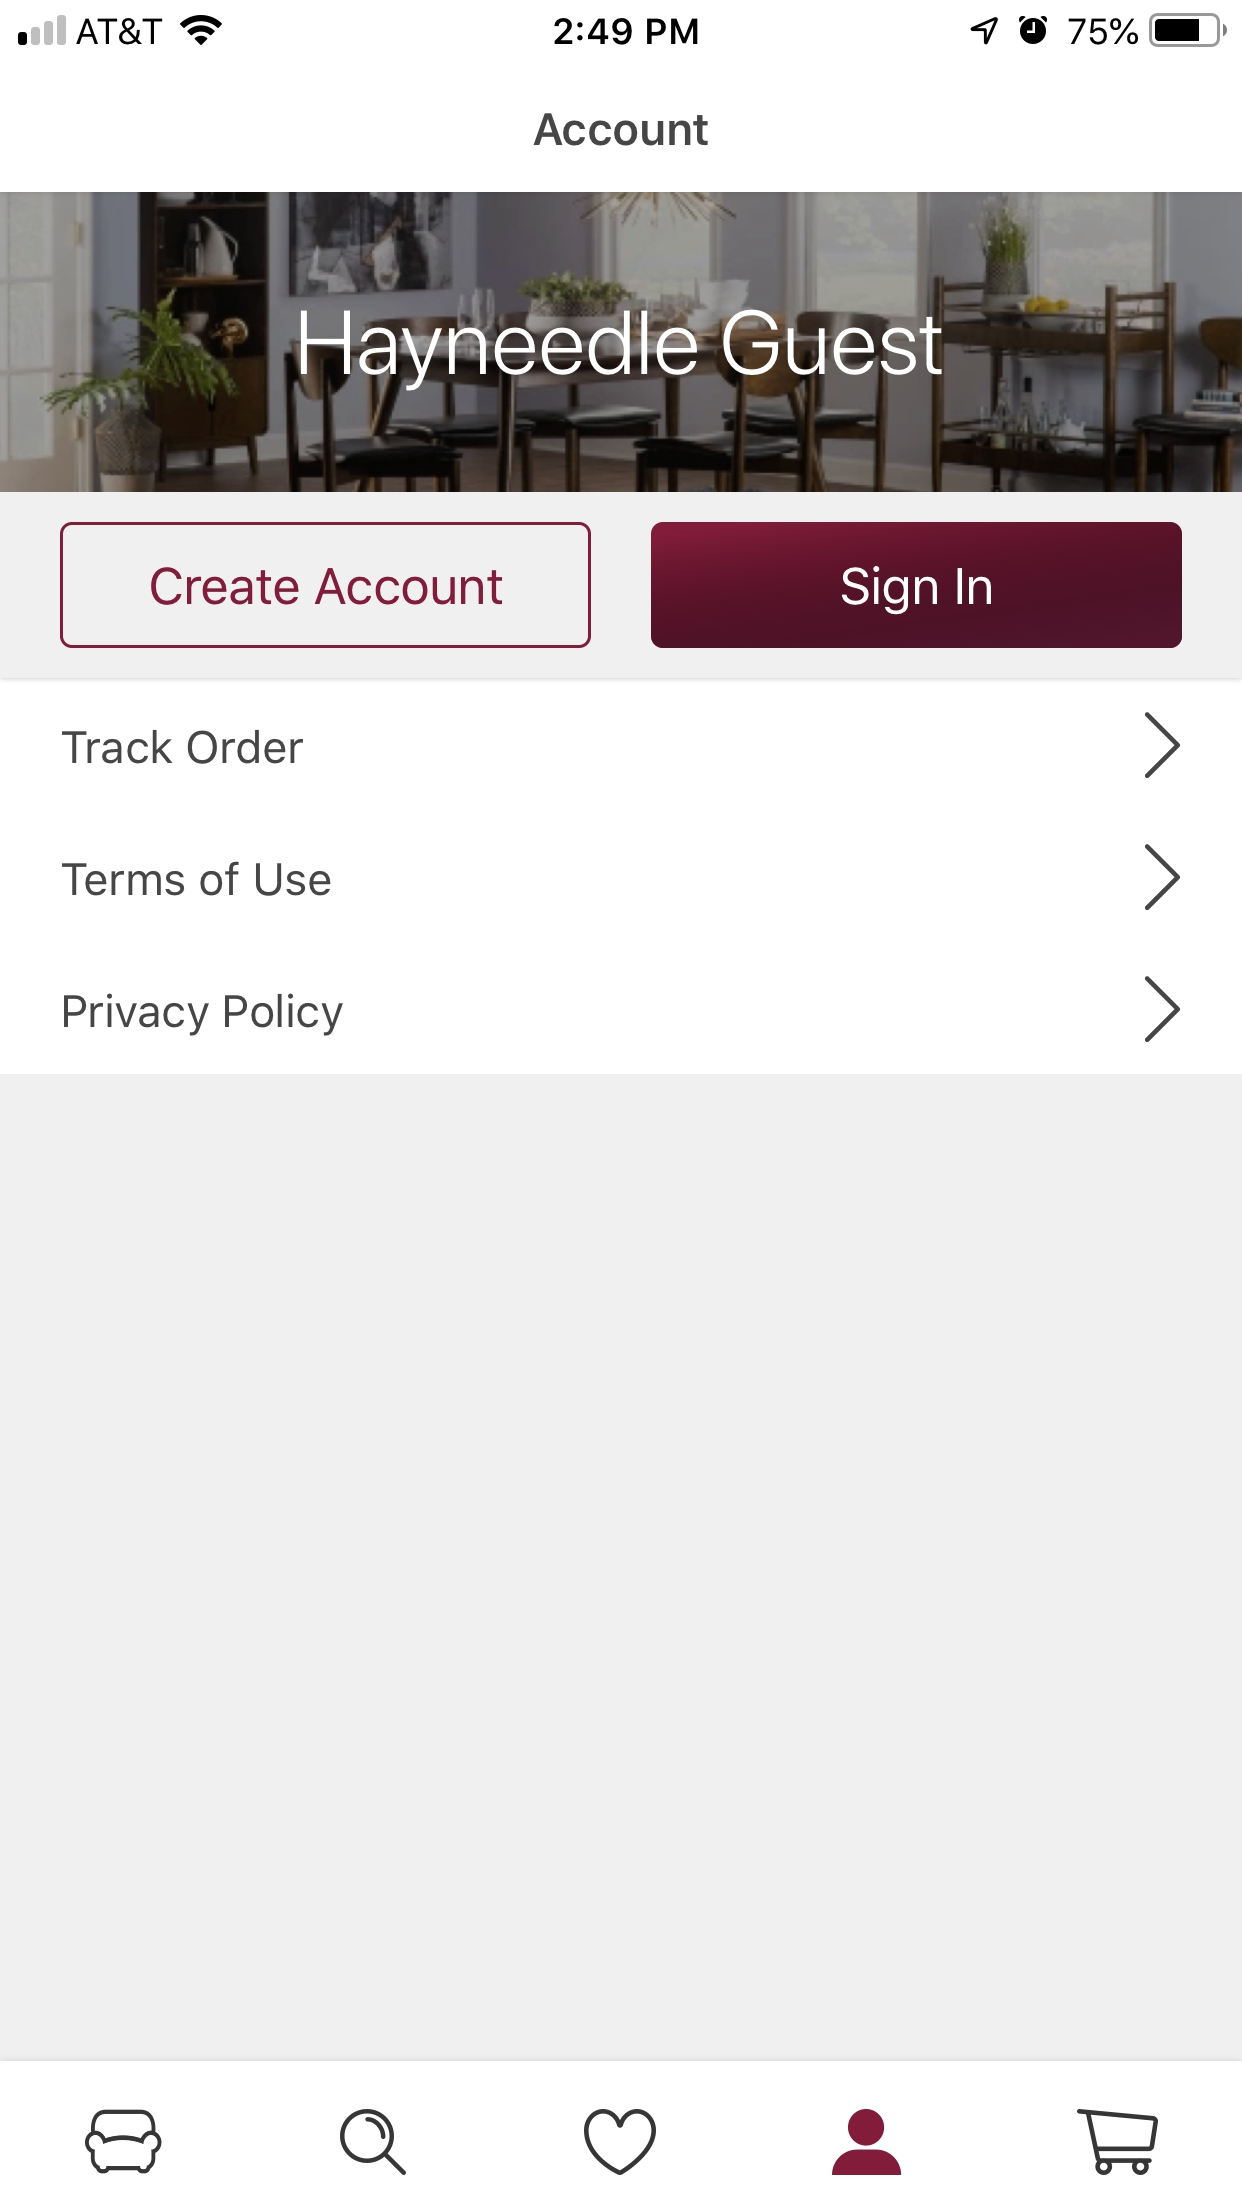Icon: (1077, 2108, 1159, 2176), (584, 2108, 658, 2176), (831, 2108, 902, 2176), (340, 2108, 406, 2175), (1143, 975, 1181, 1043), (1143, 843, 1181, 911), (1145, 713, 1181, 779)
Image: (2, 193, 1242, 494), (83, 2109, 162, 2175)
Text: (300, 309, 943, 391), (64, 993, 346, 1037), (64, 861, 332, 898), (62, 729, 305, 764), (534, 114, 710, 147)
TextButton: (651, 523, 1183, 651), (61, 522, 591, 649)
UpperTaskBar: (2, 2, 1242, 49)
